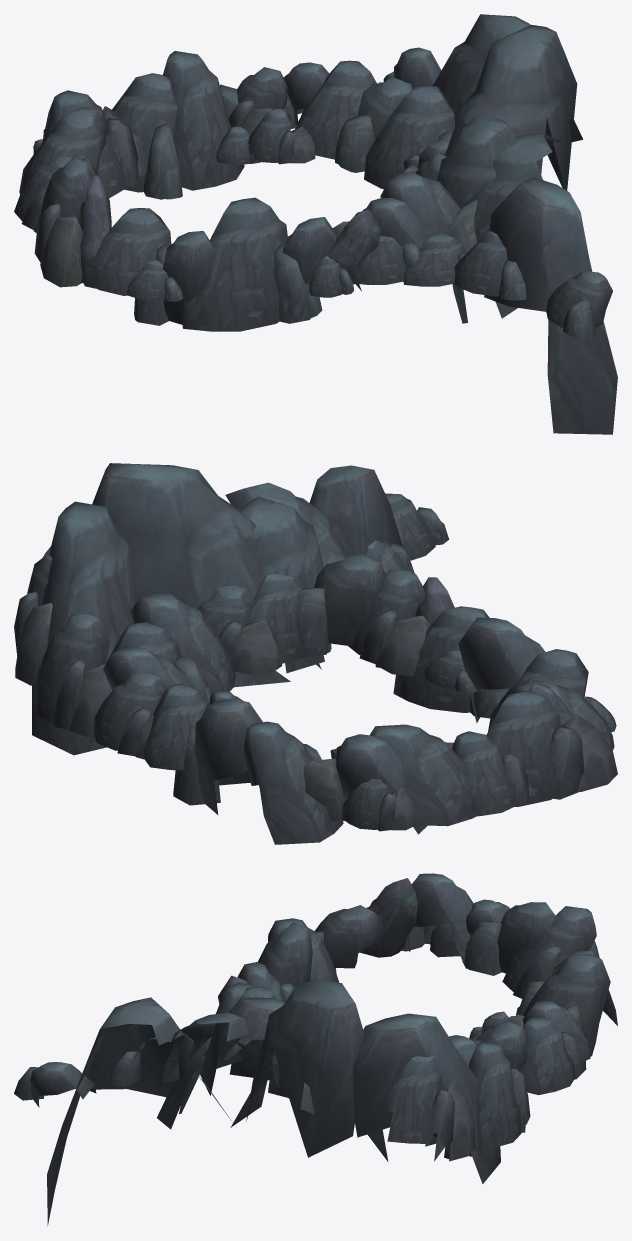
File: Area_03_8.fbx
3 renders of one model, top to bottom at view 1: azimuth 30°, elevation 25°; view 2: azimuth 150°, elevation 25°; view 3: azimuth 270°, elevation 25°, orthographic. The views are drawn at different scales.
Visible parts, largest first — view 1: Area_03_8; view 2: Area_03_8; view 3: Area_03_8.
Boxes of the visible parts, bbox=[...] form: Area_03_8: bbox=[14, 14, 617, 434]; Area_03_8: bbox=[14, 463, 617, 844]; Area_03_8: bbox=[14, 873, 617, 1225].
Size of the model in its own units: 11054 by 5636 by 11632.
